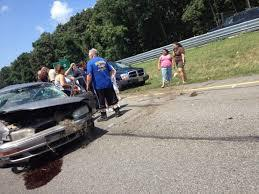bonnet-dent: (3, 94, 81, 120)
